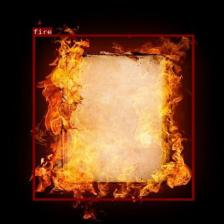fire: (32, 34, 194, 200)
